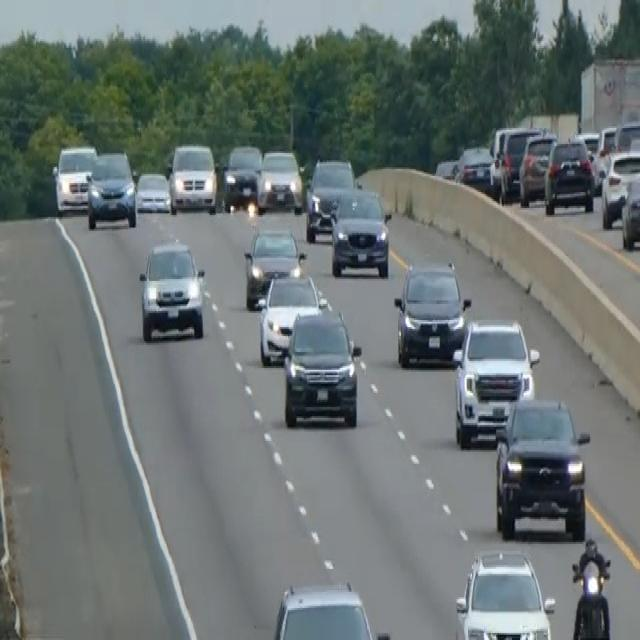car: (451, 315, 539, 448), (282, 304, 362, 428), (454, 546, 555, 638), (393, 258, 470, 368), (268, 578, 392, 638), (138, 237, 206, 343), (257, 266, 324, 364), (329, 185, 391, 277), (243, 224, 303, 308), (305, 154, 355, 242), (86, 148, 137, 230), (543, 135, 595, 213), (491, 123, 541, 199), (168, 140, 217, 213), (51, 142, 97, 214), (600, 146, 639, 228), (257, 148, 303, 214), (518, 132, 557, 206), (222, 142, 262, 214), (455, 142, 498, 194), (135, 169, 171, 213), (620, 171, 639, 249), (614, 117, 639, 153), (434, 156, 459, 182)
jeep: (493, 393, 591, 540)
motorcycle: (569, 539, 613, 638)
